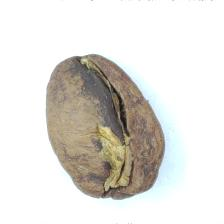NG: (57, 55, 143, 198)
